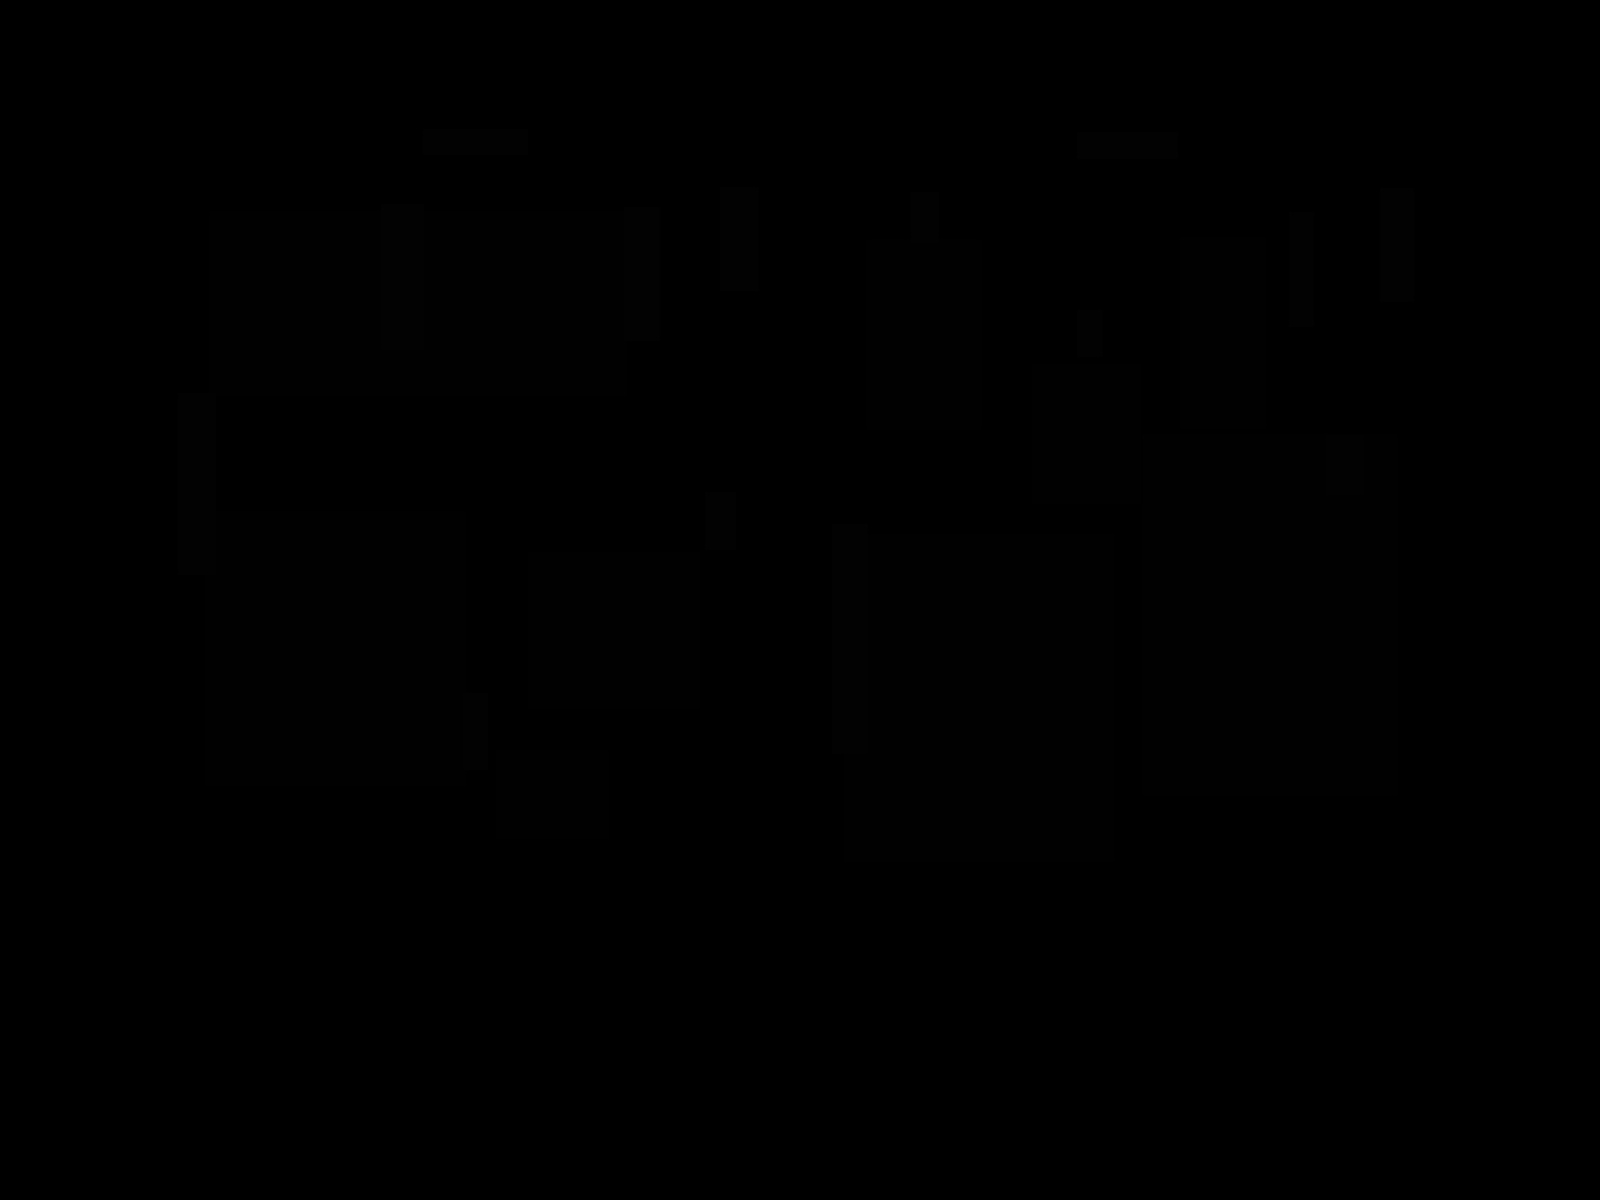1_overall: (79, 50, 1531, 1002)
3_typography: (831, 524, 868, 754), (178, 393, 215, 575), (380, 204, 425, 350), (624, 207, 660, 342), (721, 187, 758, 291), (1380, 188, 1414, 303), (1289, 212, 1314, 326), (423, 129, 528, 155), (1077, 132, 1178, 159), (1327, 435, 1364, 495), (464, 693, 488, 770), (706, 492, 736, 550), (911, 192, 939, 243), (1077, 310, 1104, 357)
4_illustration: (1141, 434, 1398, 795), (844, 534, 1114, 862), (209, 211, 627, 396), (205, 511, 466, 787), (528, 552, 700, 708), (866, 239, 981, 430), (1180, 237, 1266, 429), (1032, 364, 1141, 504), (496, 750, 609, 839)
